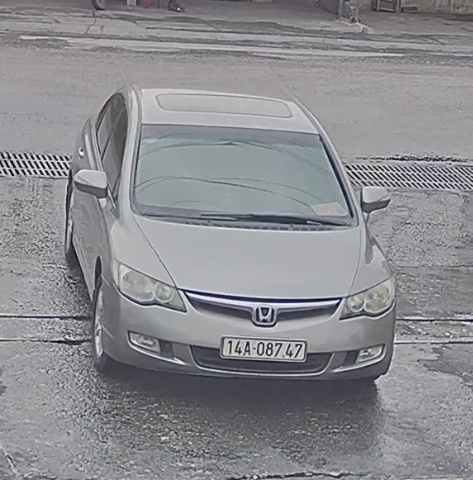vehicle plate: (216, 331, 312, 367)
